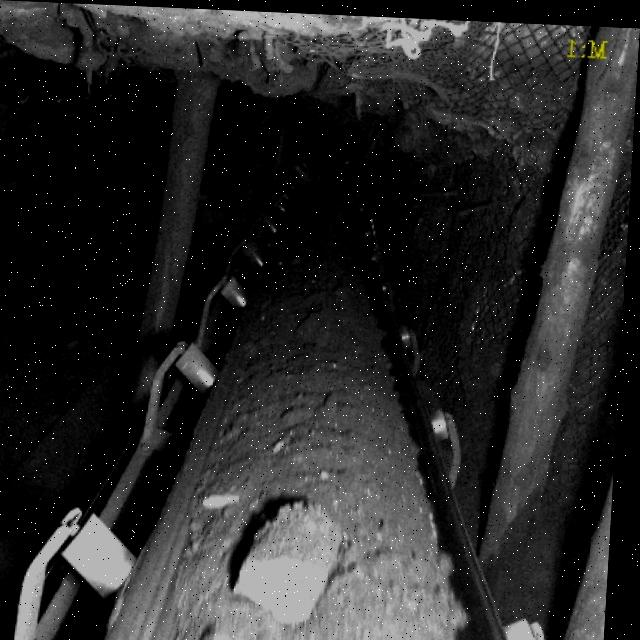large_sized_coal: (238, 500, 351, 617), (206, 623, 244, 640)
